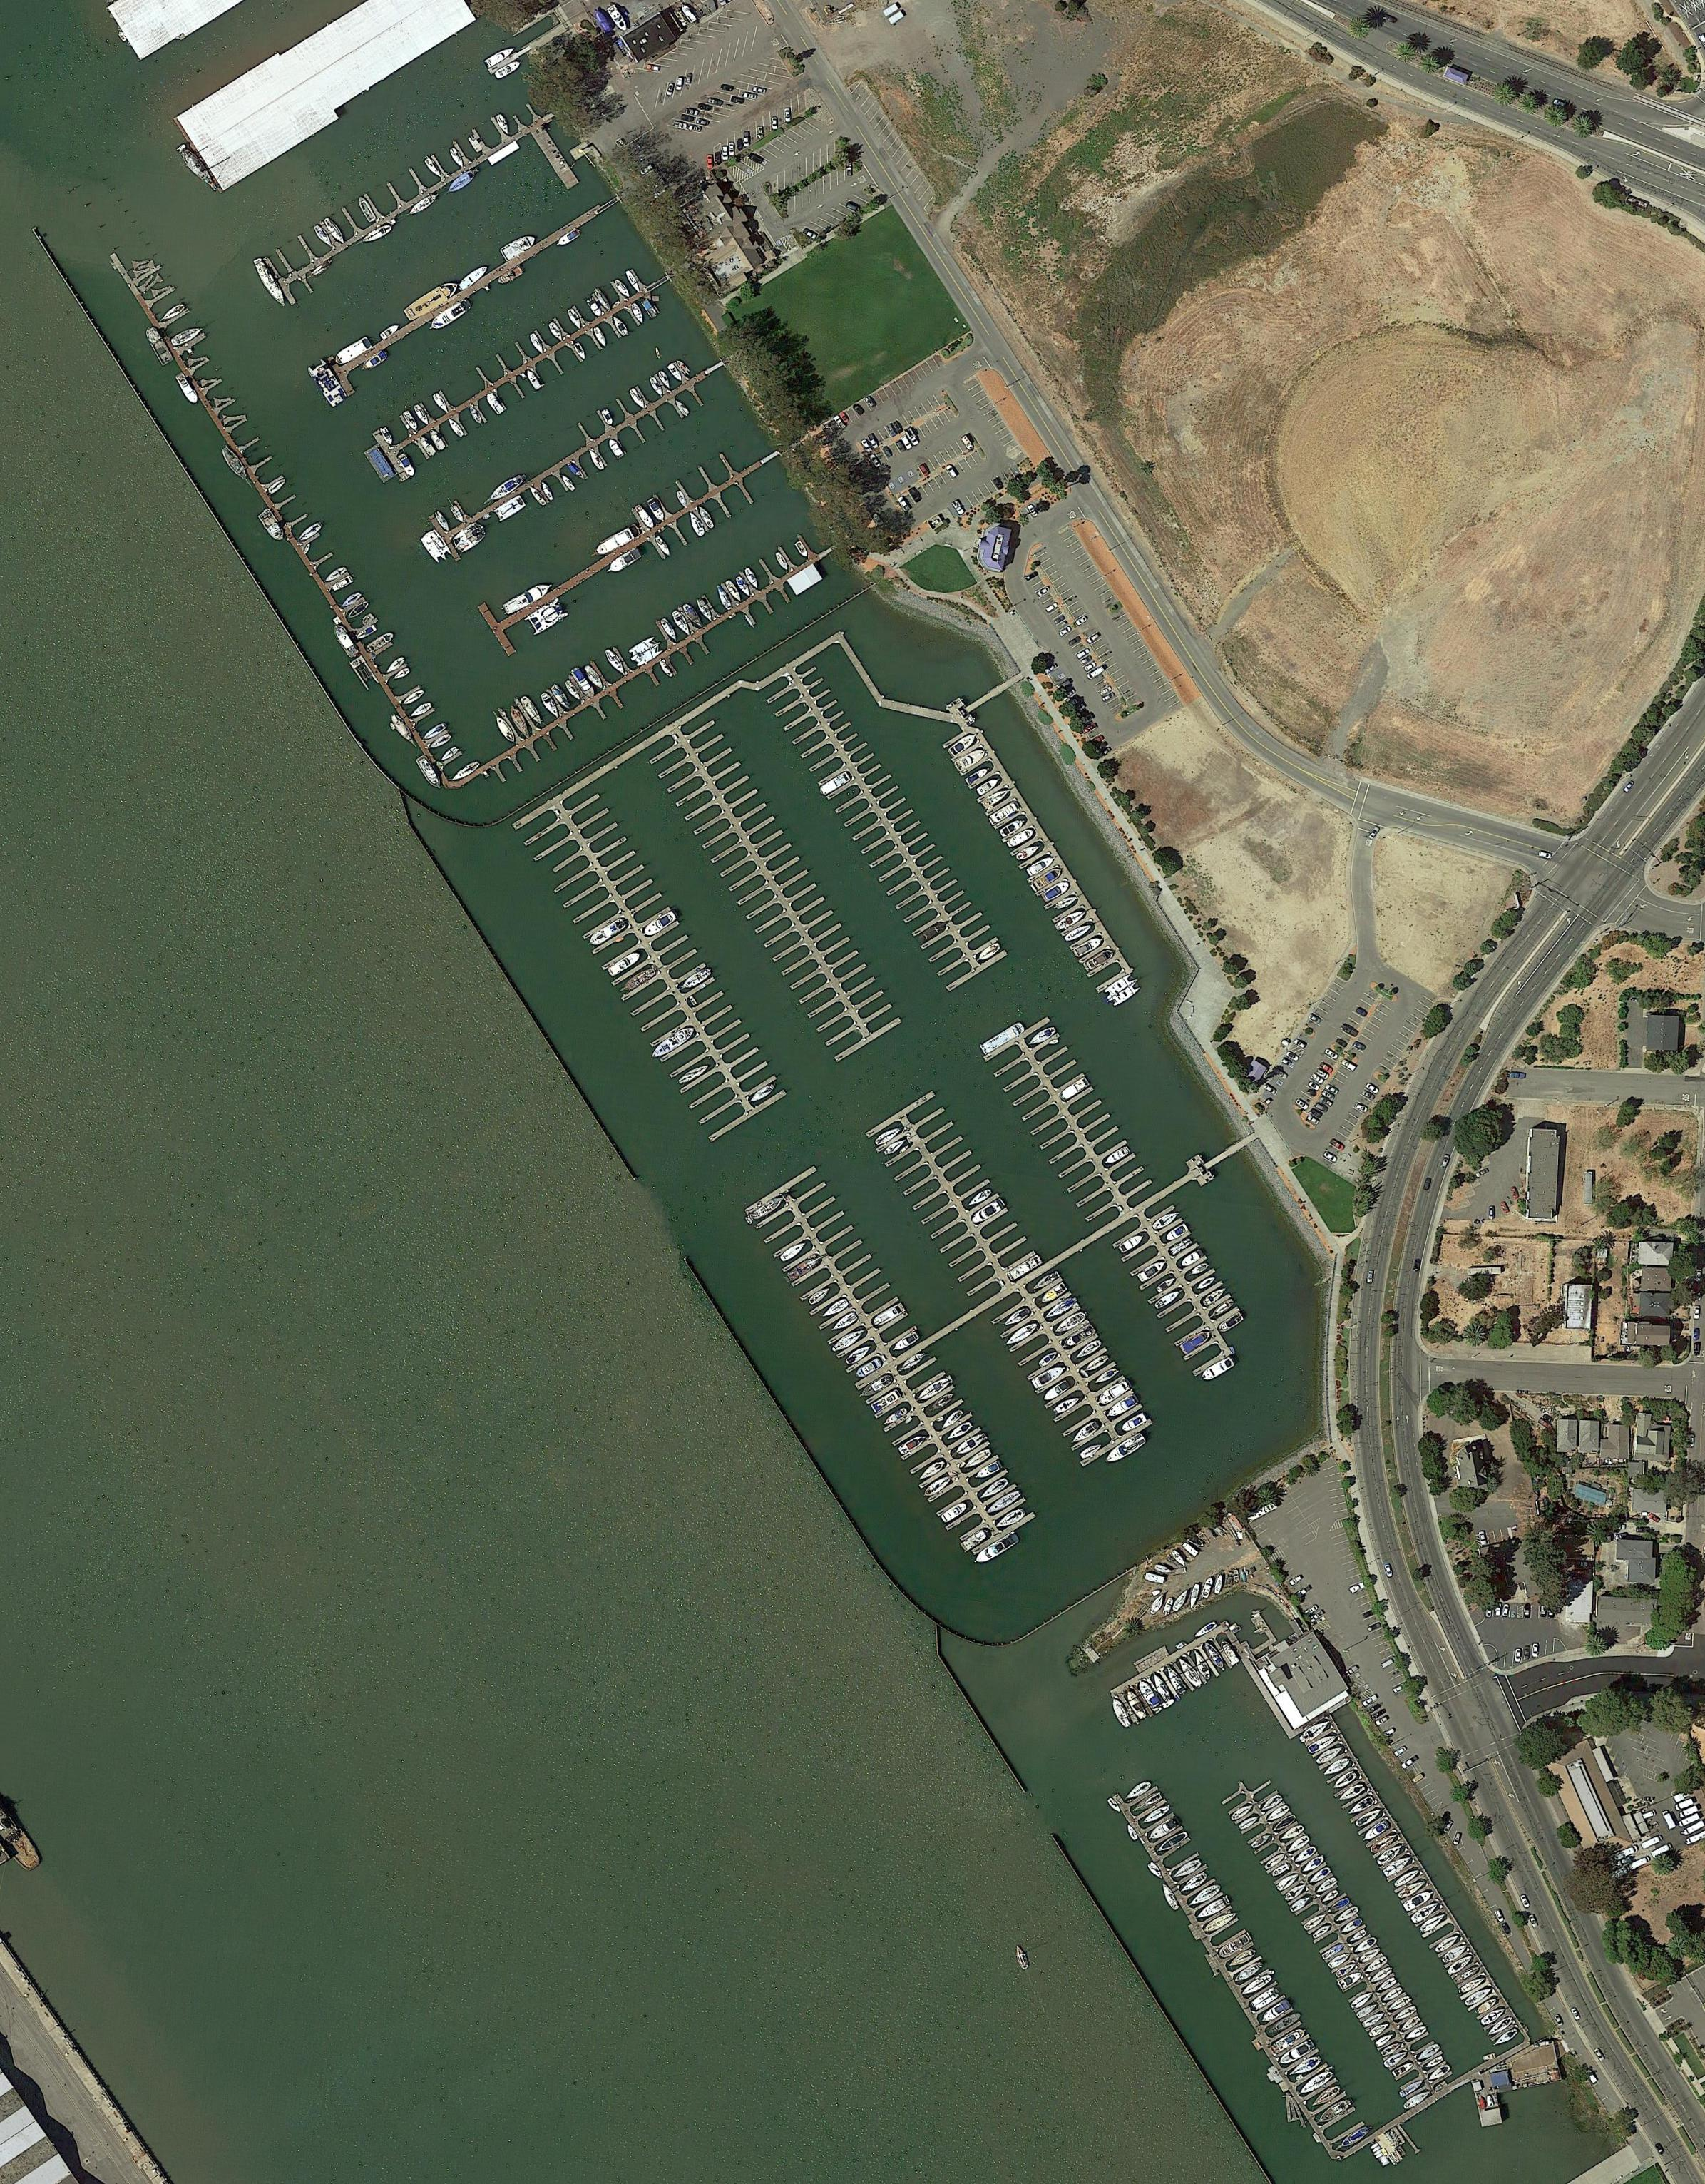harbor: (110, 236, 475, 791), (1113, 1774, 1374, 2161), (514, 785, 789, 1147), (464, 532, 833, 789), (645, 711, 904, 1064), (759, 658, 1010, 995), (1219, 1766, 1460, 2108), (1299, 1714, 1530, 2056), (372, 268, 663, 482), (262, 96, 557, 307), (324, 190, 613, 397), (427, 356, 709, 564), (477, 450, 757, 656), (943, 723, 1136, 995), (743, 1163, 925, 1386), (860, 1344, 1039, 1564), (865, 1088, 1040, 1308), (982, 1016, 1157, 1234), (985, 1266, 1156, 1471), (1106, 1195, 1258, 1379), (1109, 1620, 1253, 1732), (486, 21, 569, 76)
ship: (404, 278, 463, 323), (305, 356, 349, 411), (250, 255, 291, 310), (502, 580, 555, 617), (181, 145, 220, 195), (523, 597, 569, 638), (649, 1023, 697, 1062), (973, 1530, 1021, 1567), (978, 1021, 1026, 1057), (592, 525, 636, 562), (362, 441, 399, 486), (427, 298, 473, 333), (1102, 1431, 1147, 1466), (1104, 971, 1143, 1009), (418, 526, 454, 567), (627, 633, 666, 668), (450, 519, 489, 555), (220, 443, 252, 486), (142, 324, 174, 367), (785, 1252, 826, 1283), (588, 917, 627, 948), (333, 337, 372, 369), (500, 230, 539, 262), (486, 473, 526, 503), (388, 713, 420, 750), (829, 1326, 868, 1356), (619, 964, 658, 995), (916, 1374, 952, 1406), (606, 546, 643, 576), (1278, 2039, 1315, 2069), (858, 1372, 895, 1402), (952, 745, 989, 775), (257, 507, 287, 544), (748, 1195, 787, 1223), (1202, 1907, 1241, 1936), (331, 620, 360, 659), (417, 753, 445, 792), (1032, 1361, 1067, 1392), (1175, 1656, 1205, 1691), (493, 493, 528, 523), (969, 1198, 1007, 1227), (1186, 1881, 1223, 1909), (1216, 1932, 1253, 1961), (1271, 2026, 1308, 2055), (1299, 2069, 1336, 2097), (1317, 2097, 1354, 2125), (985, 1489, 1023, 1517), (1200, 1356, 1235, 1384), (1003, 1321, 1039, 1349), (1044, 1294, 1079, 1322), (606, 950, 642, 979), (642, 909, 677, 938), (817, 771, 852, 799), (455, 264, 491, 292), (1007, 1253, 1042, 1282), (1195, 1895, 1232, 1922), (507, 704, 533, 741), (1296, 1718, 1333, 1744), (1097, 1379, 1131, 1408), (1062, 1322, 1095, 1351), (1131, 1789, 1164, 1817), (1161, 1661, 1189, 1695), (1055, 906, 1088, 934), (1030, 865, 1063, 893), (946, 730, 980, 759), (1104, 1393, 1140, 1420), (1179, 1328, 1214, 1354), (174, 370, 200, 406), (571, 667, 597, 702), (1136, 1257, 1168, 1285), (1053, 1310, 1086, 1337), (872, 1301, 906, 1328), (1170, 1856, 1203, 1883), (1147, 1815, 1180, 1842), (1189, 1649, 1216, 1682), (1288, 2055, 1322, 2081), (1310, 2083, 1343, 2110), (1124, 1688, 1150, 1721), (870, 1388, 904, 1415), (922, 1473, 955, 1500), (978, 1477, 1012, 1503), (1083, 947, 1117, 973), (1072, 934, 1106, 961), (987, 799, 1021, 826), (519, 695, 546, 729), (445, 168, 479, 195), (1239, 1973, 1274, 1998), (1109, 1695, 1134, 1730), (1260, 1998, 1290, 2026), (1069, 1420, 1101, 1447), (1157, 1829, 1189, 1856), (1202, 1640, 1228, 1672), (954, 1432, 985, 1459), (681, 966, 712, 993), (604, 2, 631, 34), (1232, 1961, 1265, 1985), (994, 1507, 1028, 1532), (677, 1062, 711, 1087), (170, 323, 204, 347), (1338, 2125, 1372, 2150), (1402, 1888, 1436, 1913), (1409, 1900, 1443, 1925), (484, 44, 518, 69), (962, 1447, 993, 1473), (961, 1526, 991, 1553), (1026, 1025, 1058, 1049), (1058, 1078, 1090, 1103), (1273, 2010, 1304, 2035), (1136, 1679, 1161, 1711), (603, 647, 627, 679), (1040, 879, 1072, 904), (980, 785, 1012, 810), (450, 760, 482, 785), (323, 216, 347, 248), (406, 193, 438, 218), (362, 222, 393, 246), (1397, 1877, 1429, 1902), (1306, 1732, 1340, 1755), (681, 601, 705, 631), (1179, 1870, 1209, 1895), (1124, 1778, 1154, 1803), (1250, 1987, 1280, 2012), (748, 1081, 778, 1106), (493, 714, 518, 745), (1315, 1743, 1345, 1767), (1336, 1782, 1366, 1806), (1368, 1831, 1398, 1856), (1464, 1984, 1494, 2009), (539, 690, 562, 721), (1042, 1379, 1070, 1404), (1040, 1282, 1069, 1306), (1003, 1305, 1032, 1330), (360, 349, 388, 374), (1361, 1819, 1390, 1844), (1446, 1952, 1475, 1977), (821, 1298, 851, 1321), (1152, 1209, 1182, 1232), (844, 1344, 874, 1367), (1402, 2088, 1432, 2111), (1150, 1672, 1173, 1702), (1159, 1881, 1182, 1911), (1226, 1946, 1257, 1970), (899, 1432, 929, 1455), (852, 1358, 883, 1381), (939, 1501, 969, 1525), (670, 610, 693, 640), (583, 663, 606, 693), (1026, 854, 1056, 877), (1007, 826, 1037, 849), (549, 682, 572, 713), (1354, 1806, 1384, 1829), (1375, 1844, 1405, 1867), (1382, 1854, 1413, 1877), (1418, 1911, 1448, 1934), (1452, 1964, 1482, 1987), (1485, 2016, 1515, 2039), (874, 1124, 904, 1147), (1012, 1941, 1033, 1973), (1053, 1393, 1081, 1416), (1074, 1338, 1102, 1361), (778, 1241, 806, 1264), (1154, 1289, 1182, 1312), (158, 301, 186, 324), (1118, 1232, 1147, 1255), (891, 1331, 920, 1354), (975, 1459, 1003, 1482), (918, 1459, 946, 1482), (946, 1420, 975, 1443), (927, 1392, 955, 1415), (899, 1351, 927, 1374), (1063, 922, 1092, 945), (367, 631, 395, 654), (496, 264, 525, 287), (1322, 1755, 1351, 1778), (1393, 1867, 1421, 1890), (1141, 1805, 1172, 1826), (1478, 2005, 1508, 2026), (1094, 1365, 1120, 1388), (1218, 1312, 1244, 1335), (1202, 1285, 1228, 1308), (977, 941, 1003, 964), (966, 764, 993, 787), (1016, 840, 1042, 863), (298, 521, 324, 544), (312, 223, 335, 250), (555, 227, 581, 250), (1271, 1812, 1297, 1835), (1285, 1833, 1312, 1856), (1292, 1844, 1319, 1867), (1299, 1854, 1326, 1877), (1492, 2026, 1519, 2049), (1032, 1271, 1060, 1292), (635, 503, 656, 532), (686, 509, 707, 537), (712, 583, 734, 612), (1219, 1638, 1241, 1666), (356, 195, 378, 223), (1347, 1796, 1375, 1817), (1441, 1943, 1469, 1964), (592, 7, 613, 35), (493, 60, 523, 80), (1333, 1769, 1358, 1792), (1120, 1413, 1147, 1434), (1209, 1298, 1235, 1319), (806, 1285, 833, 1306), (831, 1312, 858, 1333), (647, 496, 668, 523), (695, 597, 716, 624), (1104, 1145, 1131, 1166), (966, 1188, 993, 1209), (658, 617, 679, 643), (975, 775, 1001, 796), (1000, 817, 1026, 839), (1280, 1822, 1306, 1844), (1434, 1934, 1460, 1955), (1303, 1911, 1329, 1932), (1416, 2042, 1443, 2063), (1338, 1970, 1365, 1991), (1327, 1950, 1354, 1971), (883, 1136, 909, 1158), (1085, 1353, 1109, 1374), (939, 1409, 964, 1431), (883, 1406, 907, 1427), (431, 390, 452, 415), (1265, 1803, 1290, 1824), (1308, 1865, 1333, 1886), (1276, 1872, 1301, 1893), (1384, 2049, 1409, 2071), (1368, 1964, 1393, 1985), (697, 503, 716, 530), (723, 578, 743, 605), (1179, 1250, 1205, 1269), (486, 390, 505, 417), (594, 287, 613, 314), (397, 452, 417, 479), (424, 154, 443, 181), (1398, 2079, 1425, 2099), (1391, 2005, 1418, 2024), (1361, 2010, 1388, 2030), (1349, 1991, 1375, 2010), (1363, 1955, 1390, 1975), (1460, 1975, 1487, 1994), (347, 599, 370, 620), (1315, 1876, 1338, 1897), (665, 362, 686, 385), (1193, 1620, 1218, 1640), (1172, 1588, 1191, 1613), (323, 565, 347, 585), (402, 688, 427, 707), (422, 721, 447, 741), (427, 732, 452, 752), (310, 259, 335, 278), (624, 269, 643, 294), (565, 307, 585, 331), (427, 427, 447, 452), (1427, 2063, 1452, 2083), (1230, 1803, 1255, 1822), (1258, 1794, 1283, 1814), (1250, 1831, 1274, 1851), (1283, 1883, 1308, 1902), (1288, 1895, 1313, 1915), (1386, 1994, 1411, 2014), (1354, 1936, 1379, 1955), (1320, 1941, 1345, 1961), (1340, 1916, 1365, 1936), (1335, 1906, 1359, 1925), (1475, 1996, 1499, 2016), (647, 374, 666, 399), (565, 461, 587, 482), (417, 436, 438, 457), (1156, 1275, 1179, 1294), (528, 484, 548, 507), (448, 503, 468, 526), (340, 590, 363, 610), (385, 656, 408, 675), (1264, 1853, 1287, 1872), (1381, 1985, 1404, 2005), (1398, 2014, 1421, 2033), (1335, 1961, 1358, 1980), (1327, 1897, 1351, 1916), (679, 2, 698, 25), (627, 386, 647, 409), (734, 574, 751, 599), (1148, 1592, 1166, 1617), (1055, 893, 1079, 911), (564, 679, 581, 704), (592, 324, 610, 349), (413, 402, 431, 427), (448, 145, 466, 170), (1404, 2024, 1429, 2042), (606, 438, 626, 459), (1079, 1443, 1102, 1461), (1037, 1351, 1060, 1369), (654, 535, 672, 558), (743, 567, 760, 590), (1164, 1223, 1187, 1241), (588, 448, 606, 472), (434, 511, 452, 534), (409, 702, 432, 720), (613, 278, 631, 301), (611, 314, 629, 337), (587, 296, 604, 319), (548, 321, 565, 344), (528, 331, 546, 355), (402, 409, 420, 433), (494, 113, 512, 136), (1237, 1814, 1260, 1831), (1356, 2001, 1379, 2019), (1368, 2021, 1391, 2039), (1391, 2060, 1414, 2078), (1375, 1977, 1398, 1994), (1359, 1946, 1382, 1964), (658, 658, 675, 679), (447, 417, 464, 438), (379, 323, 401, 340), (356, 624, 378, 642), (268, 479, 289, 496), (629, 303, 647, 324), (525, 369, 542, 390), (1271, 1861, 1292, 1879), (1381, 2040, 1402, 2058), (1312, 1923, 1333, 1941), (331, 576, 354, 592), (656, 369, 672, 392), (1196, 1275, 1216, 1292), (1147, 1861, 1164, 1881), (1170, 1549, 1187, 1569), (440, 746, 459, 764), (1375, 2032, 1395, 2049), (1320, 1888, 1340, 1906), (468, 133, 484, 154), (1189, 1260, 1211, 1276), (675, 489, 691, 511), (775, 551, 790, 573), (539, 480, 555, 502), (468, 404, 484, 425), (379, 425, 395, 447), (675, 358, 691, 379), (1189, 1583, 1202, 1610), (1202, 1576, 1216, 1599), (1106, 1798, 1124, 1815), (392, 667, 411, 682), (572, 342, 588, 362), (1425, 2055, 1444, 2071), (1349, 1929, 1368, 1945), (601, 406, 615, 427), (794, 541, 810, 558), (560, 475, 576, 493), (1187, 1533, 1205, 1549), (673, 399, 689, 417), (1125, 1822, 1140, 1842), (1212, 1574, 1225, 1595), (1154, 1564, 1173, 1576), (1163, 1597, 1175, 1615), (1485, 2094, 1496, 2108), (1161, 1698, 1175, 1709), (688, 995, 698, 1009), (1150, 1705, 1164, 1714), (1478, 2097, 1487, 2111), (1232, 1569, 1241, 1583), (1482, 2053, 1496, 2062), (654, 346, 661, 360), (303, 544, 312, 555)
